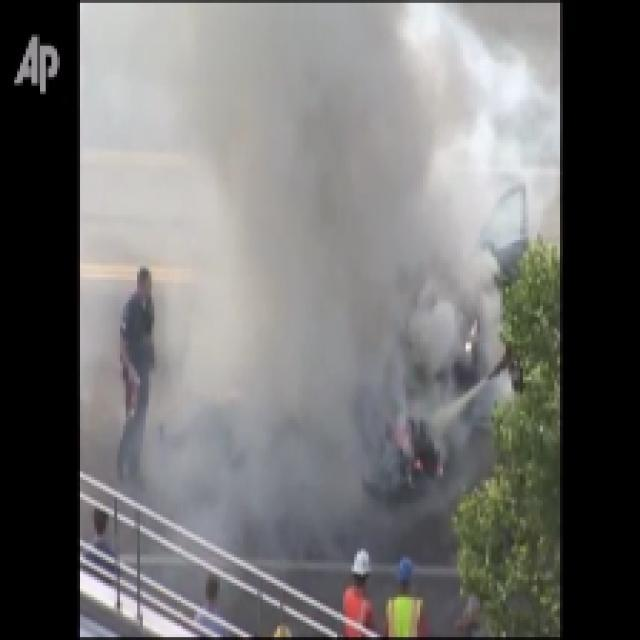Smoke: (204, 17, 474, 487)
